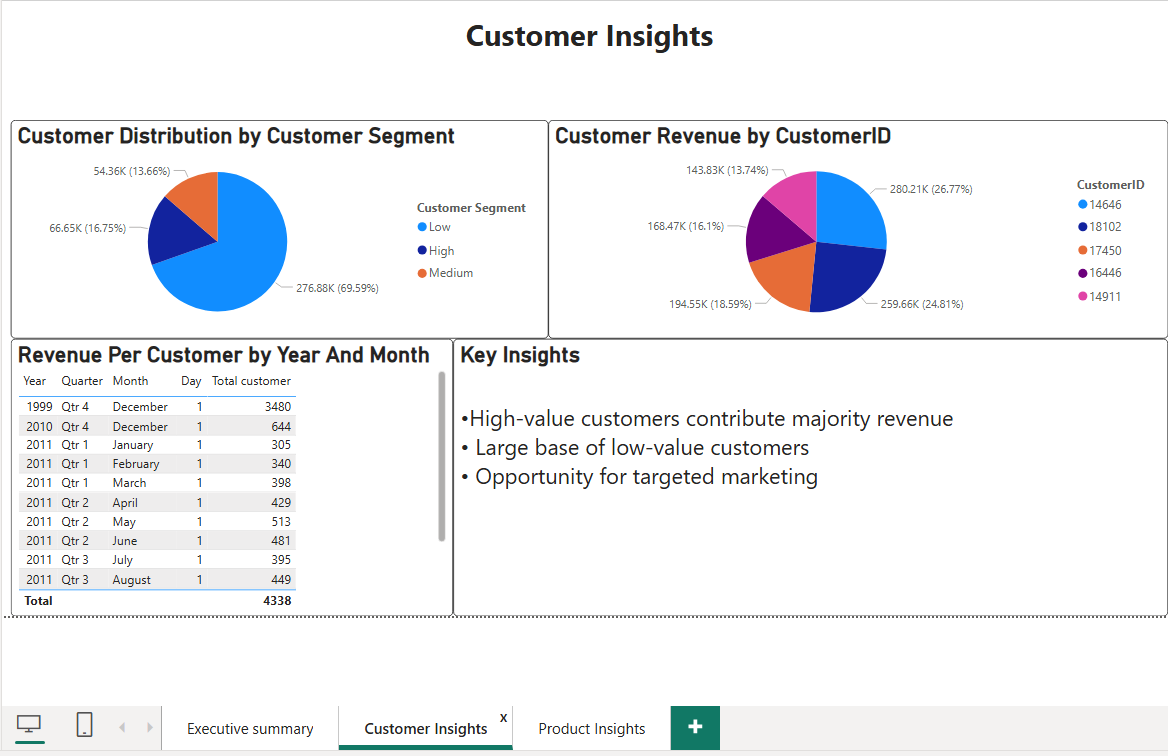

Layout of this report page (visuals, bound fields, positions):
{"tool":"powerbi","page":{"name":"Customer Insights","canvas":[1280,720],"ordinal":1},"visuals":[{"type":"pieChart","title":"Customer Distribution by Customer Segment","fields":{"Category":["online_retail.Customer Segment"],"Y":["CountNonNull(online_retail.CustomerID)"]},"box":[9.6,175.6,590.1,240.1],"z":0},{"type":"pieChart","fields":{"Category":["online_retail.CustomerID"],"Y":["online_retail.Customer Revenue"]},"box":[599.7,175.6,680.6,240.1],"z":1000},{"type":"tableEx","title":"Revenue Per Customer by Year And Month","fields":{"Values":["online_retail.MonthStart.Variation.Date Hierarchy.Year","online_retail.MonthStart.Variation.Date Hierarchy.Quarter","online_retail.MonthStart.Variation.Date Hierarchy.Month","online_retail.MonthStart.Variation.Date Hierarchy.Day","online_retail.Total customer"]},"box":[9.6,415.8,485.8,304.6],"z":2000},{"type":"textbox","box":[9.6,54.9,1270.7,120.8],"z":3000},{"type":"textbox","title":"Key Insights ","box":[495.4,415.8,784.9,304.6],"z":4000}]}

Visuals, with their boxes on the page's 1280x720 design canvas (x1, y1, x2, y2). These are canvas units, not pixel positions in the 1168x756 screenshot, which may show the page scaled, cropped or inside an application window:
"Customer Distribution by Customer Segment" pieChart: Rect(10, 176, 600, 416)
pieChart - online_retail.CustomerID x online_retail.Customer Revenue: Rect(600, 176, 1280, 416)
"Revenue Per Customer by Year And Month" tableEx: Rect(10, 416, 495, 720)
textbox: Rect(10, 55, 1280, 176)
"Key Insights " textbox: Rect(495, 416, 1280, 720)
